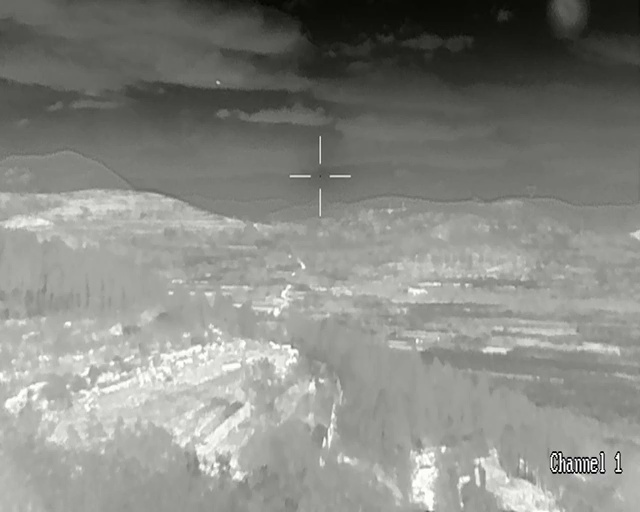uav: (216, 80, 219, 83)
